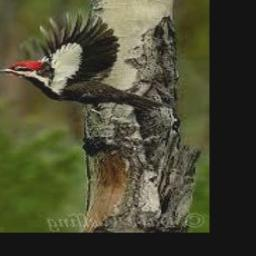Woodpecker: (0, 11, 170, 114)
